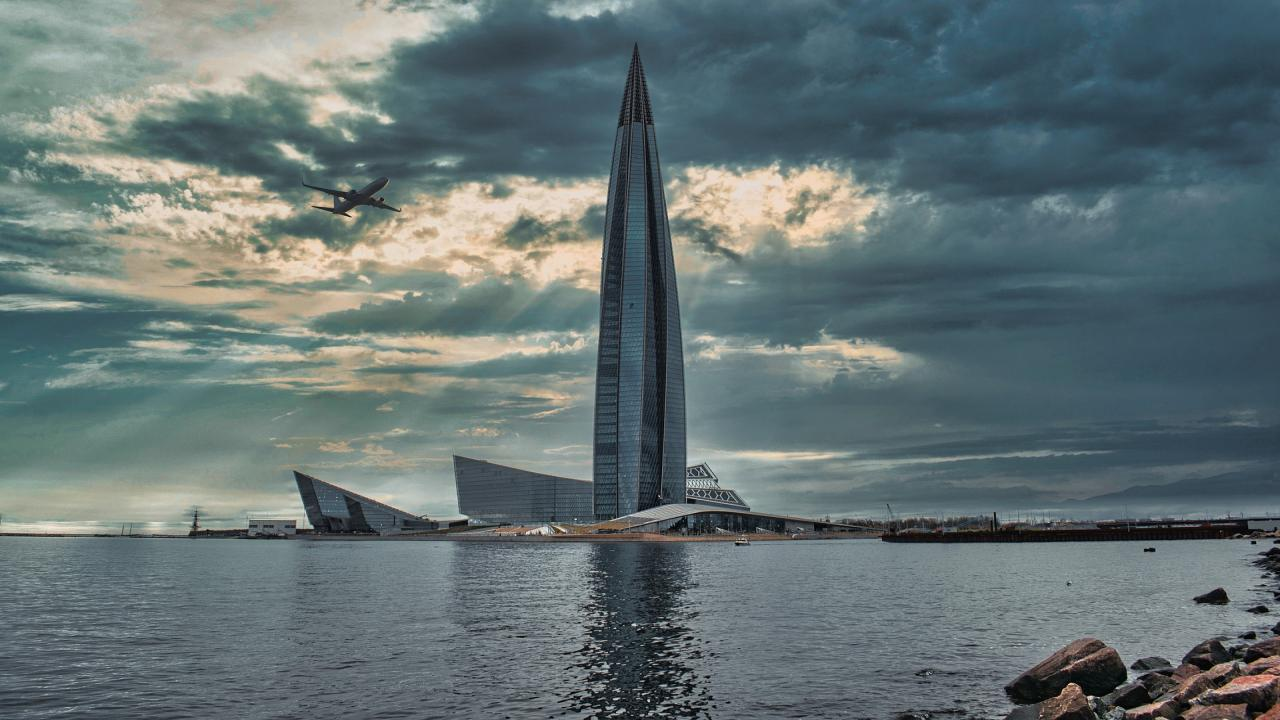Airplane: (290, 167, 409, 224)
